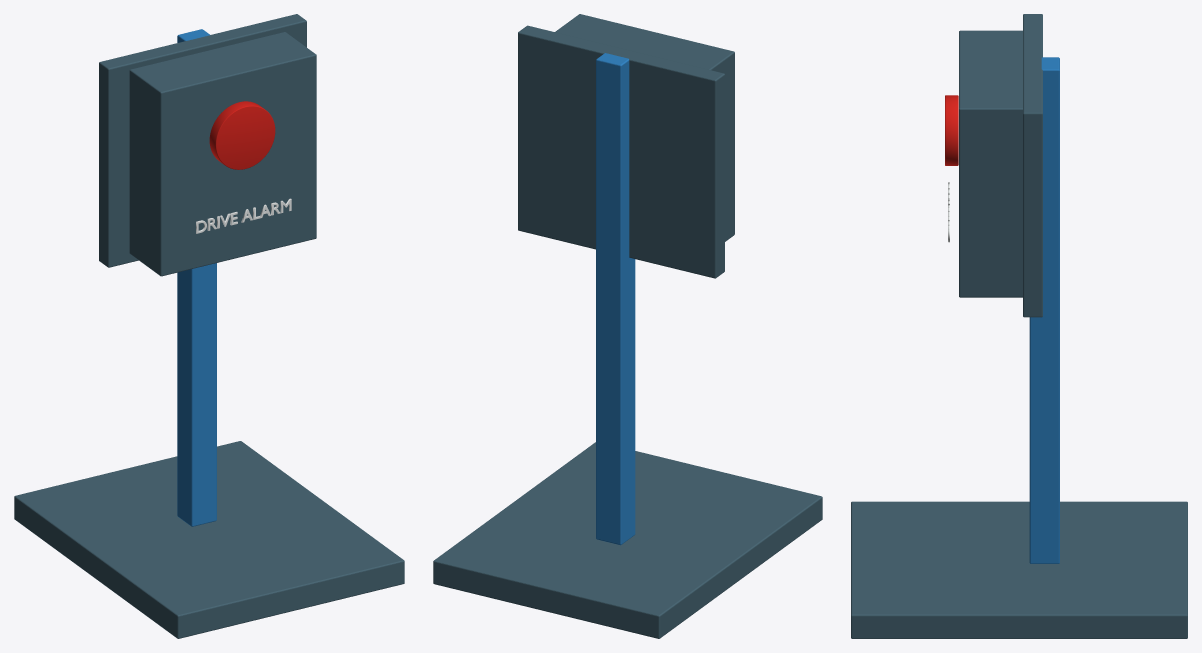
The model's file is drive_status_indicator.glb.
The picture shows the model from 3 angles, left to right: view 1: azimuth 30°, elevation 25°; view 2: azimuth 150°, elevation 25°; view 3: azimuth 270°, elevation 25°; orthographic projection. The views are drawn at different scales.
Visible parts, largest first — view 1: STAND_base, STATUS_indicator_housing, STAND_mast, STAND_backboard, LENS_red, STATUS_indicator_label; view 2: STAND_base, STAND_backboard, STAND_mast, STATUS_indicator_housing; view 3: STAND_base, STATUS_indicator_housing, STAND_mast, STAND_backboard, LENS_red.
Part boxes in pixels (x1,y1,x2,y2): STAND_base: (14,441,404,638); STATUS_indicator_housing: (129,32,316,276); STAND_mast: (177,29,216,526); STAND_backboard: (99,14,306,267); LENS_red: (209,101,275,169); STATUS_indicator_label: (196,198,291,233); STAND_base: (433,442,822,638); STAND_backboard: (518,25,724,278); STAND_mast: (596,53,635,545); STATUS_indicator_housing: (555,14,734,241); STAND_base: (851,501,1187,638); STATUS_indicator_housing: (959,30,1022,297); STAND_mast: (1029,57,1059,563); STAND_backboard: (1023,14,1042,317); LENS_red: (945,95,958,165).
Bounding box in the file's own units: 0.8 × 1.7 × 1.
